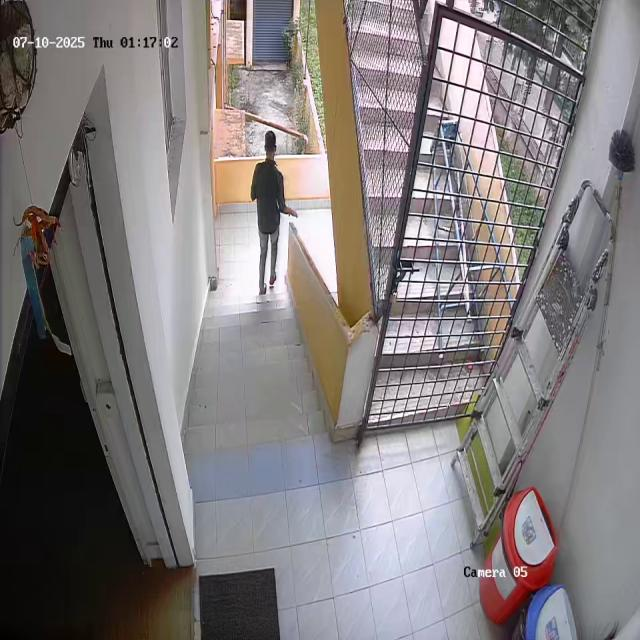person: (242, 131, 300, 298)
